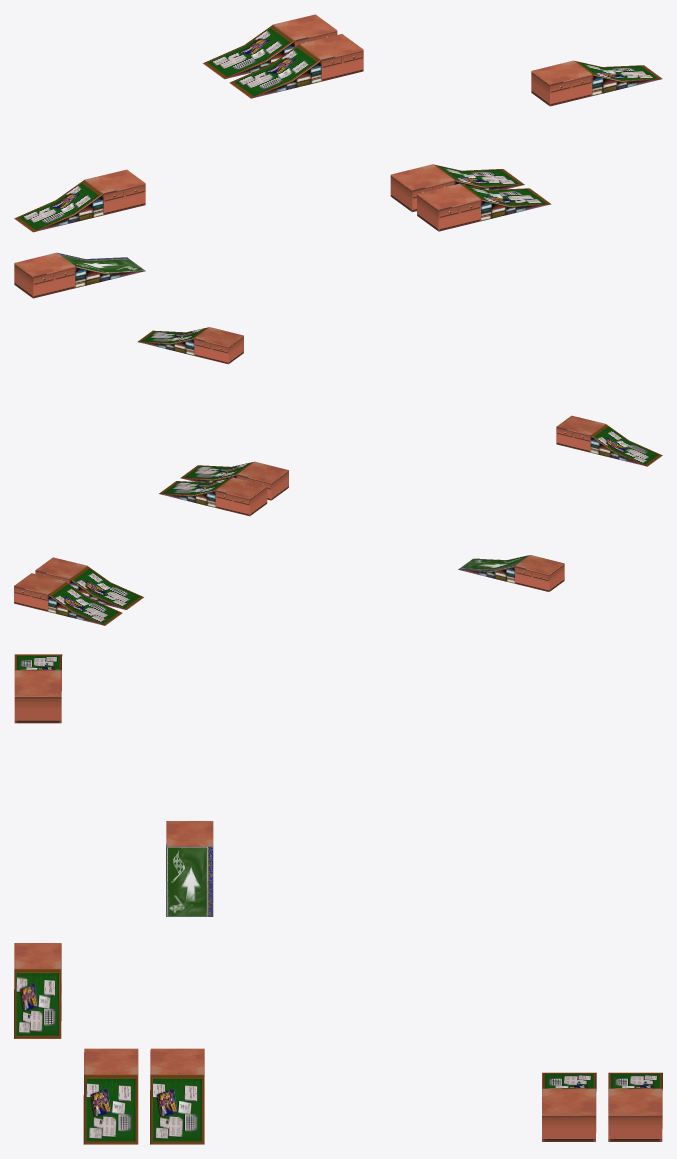
Rendered from tables.glb.
3 views of the same model, one above another, from view 1: azimuth 30°, elevation 25°; view 2: azimuth 150°, elevation 25°; view 3: azimuth 270°, elevation 25° (orthographic). The views are drawn at different scales.
Visible parts, largest first — view 1: tables; view 2: tables; view 3: tables.
Part boxes in pixels (x1=…): tables: x1=14, y1=14, x2=662, y2=298; tables: x1=14, y1=327, x2=662, y2=625; tables: x1=14, y1=654, x2=662, y2=1144.
Size of the model in its own units: 4640 by 1036 by 3310.
4 materials, 4 textured.
